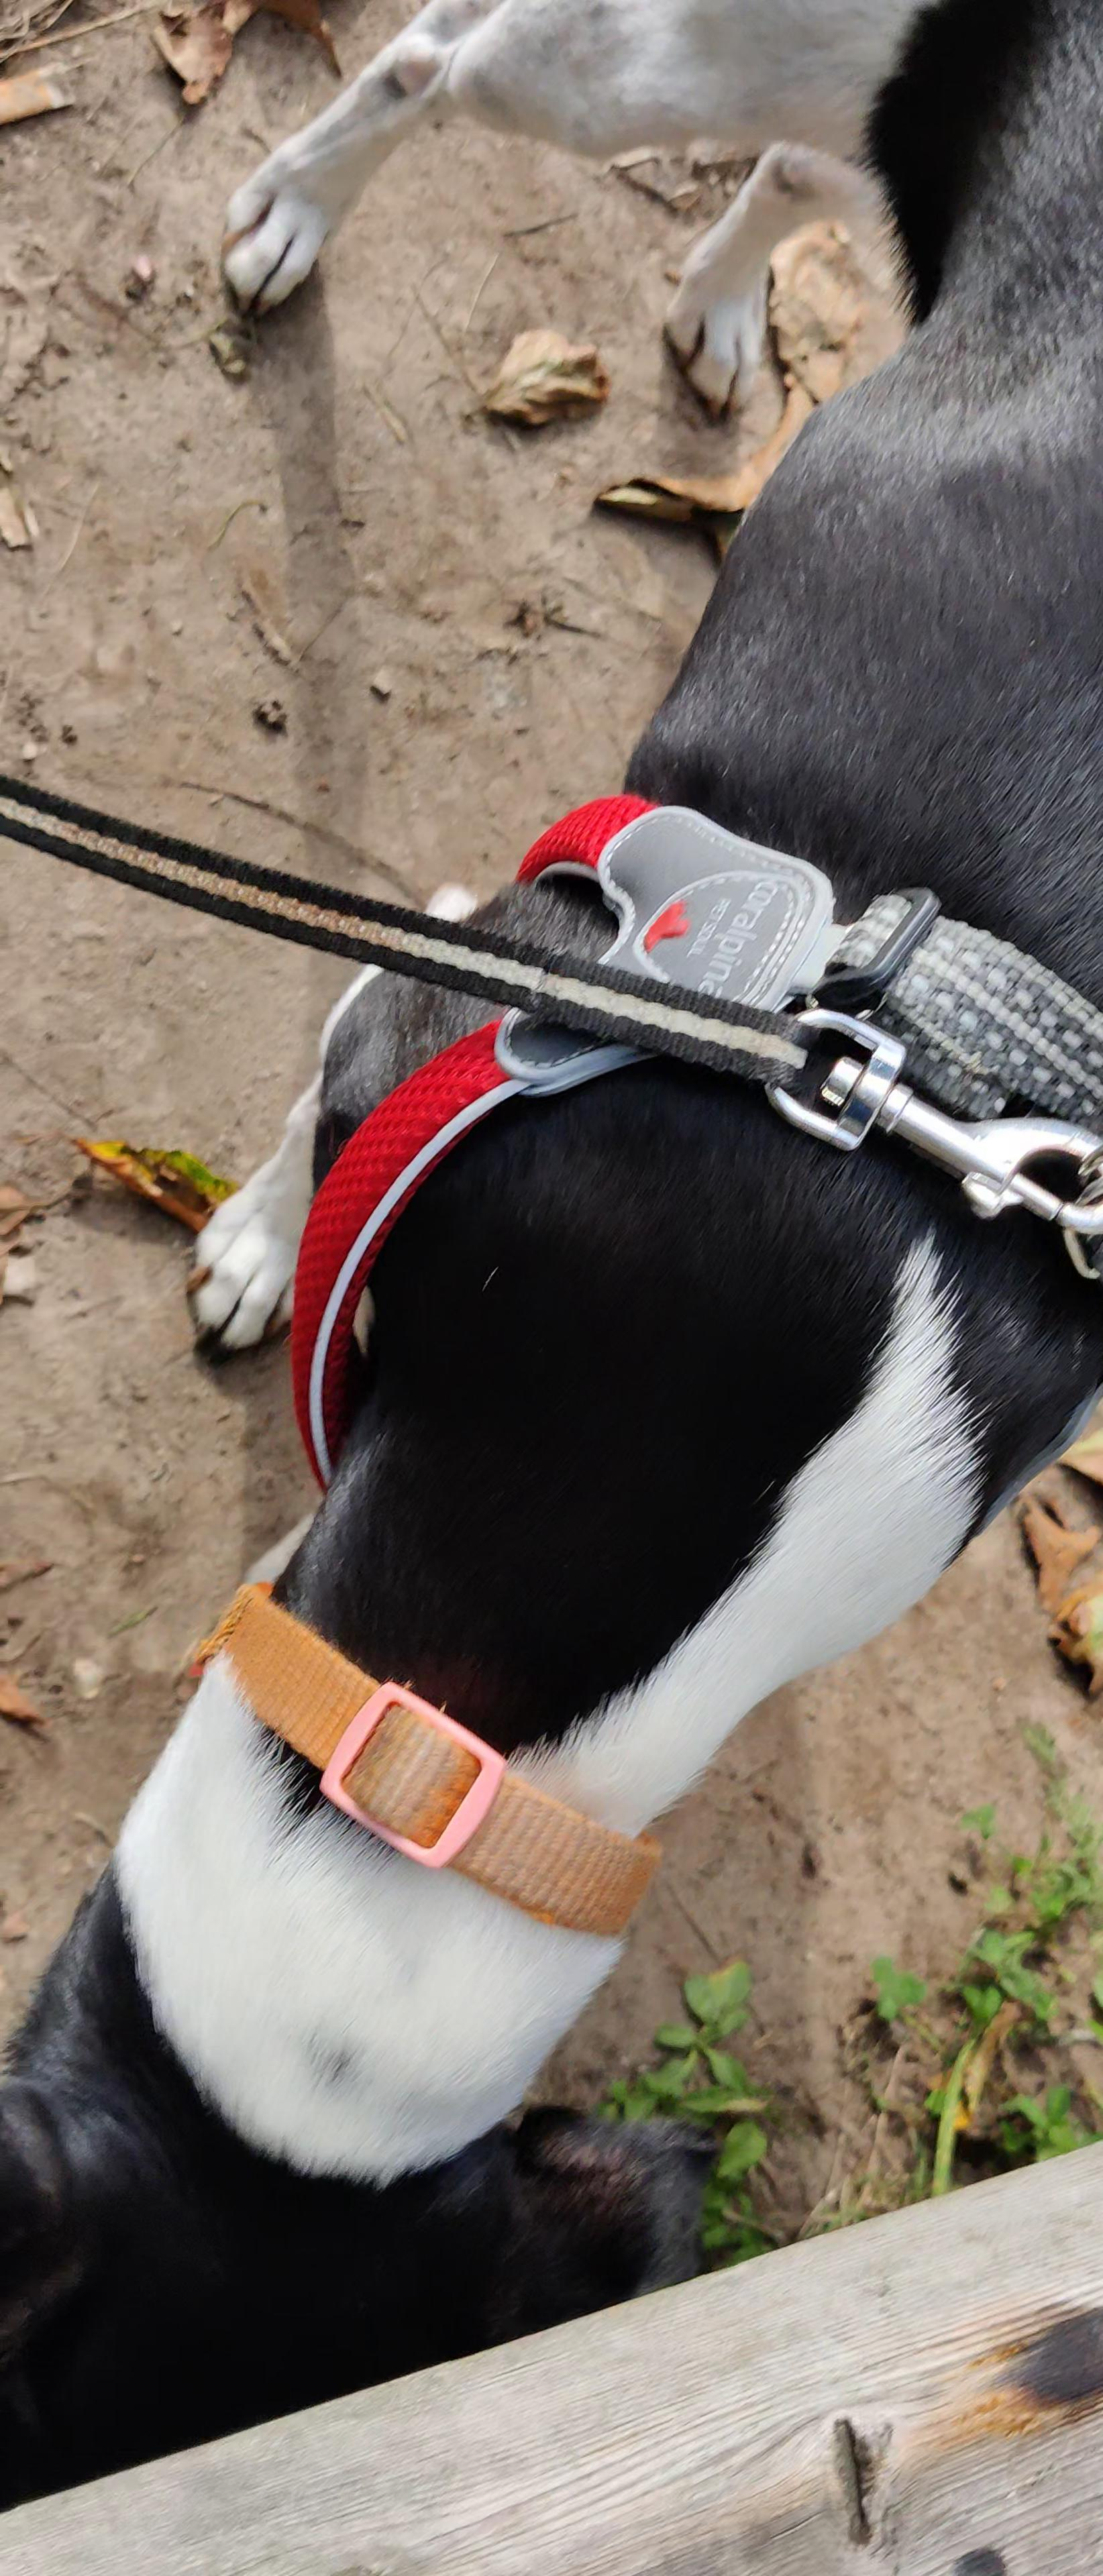Dog: (0, 0, 1103, 2505)
